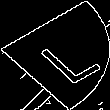L_NW: (17, 26, 94, 84)
